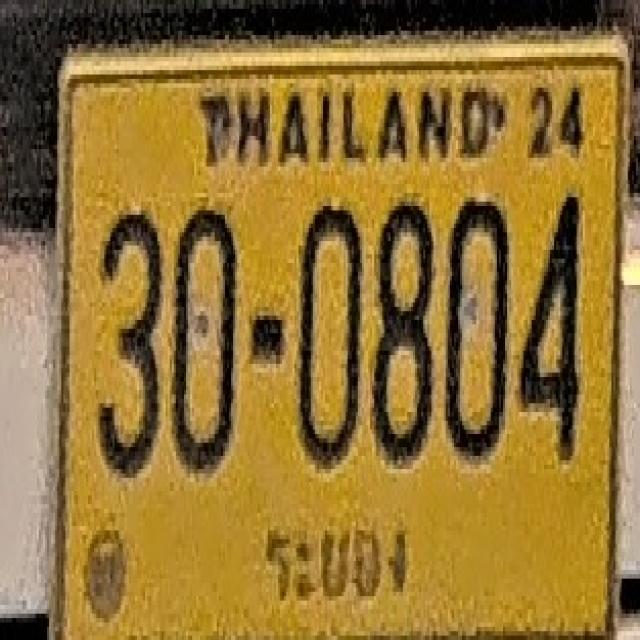0: (297, 197, 361, 465), (173, 204, 236, 471), (445, 193, 508, 456)
3: (97, 206, 163, 473)
4: (518, 191, 580, 458)
8: (371, 198, 433, 460)
RYG: (255, 514, 415, 615)
